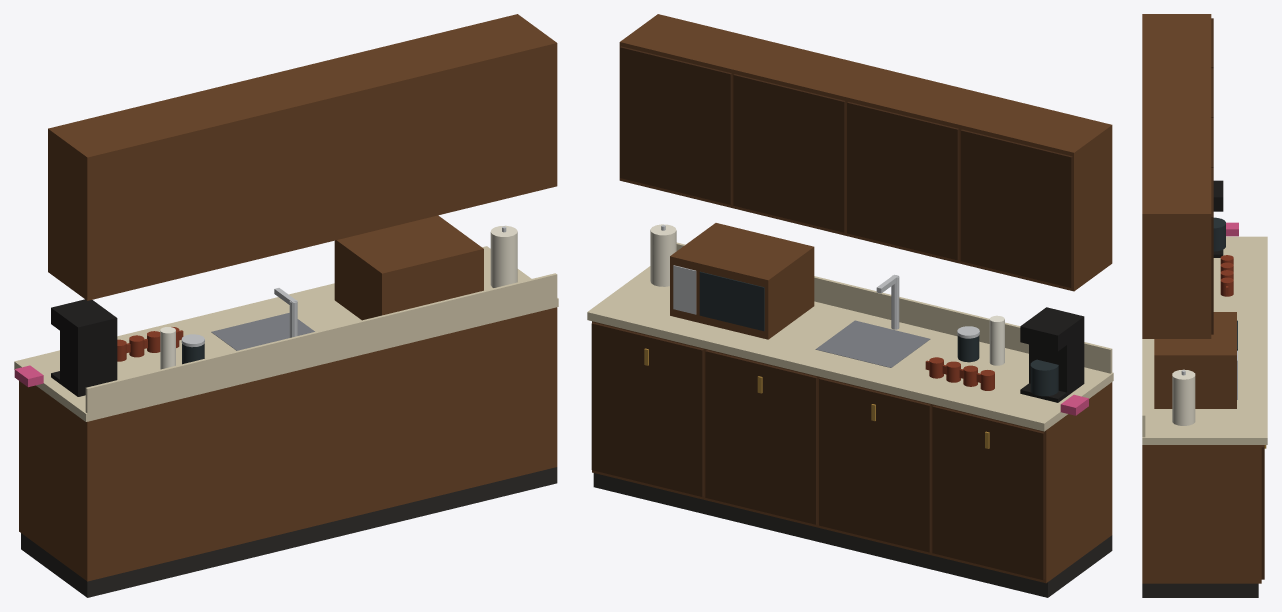
The model's file is SM_80s_Kitchenette.glb.
3 renders of one model, left to right at view 1: azimuth 30°, elevation 25°; view 2: azimuth 150°, elevation 25°; view 3: azimuth 270°, elevation 25°, orthographic. The views are drawn at different scales.
Visible parts, largest first — view 1: SM_80s_Kitchenette; view 2: SM_80s_Kitchenette; view 3: SM_80s_Kitchenette.
Boxes of the visible parts, <box> form: SM_80s_Kitchenette: <box>14,14,558,597</box>; SM_80s_Kitchenette: <box>587,14,1113,597</box>; SM_80s_Kitchenette: <box>1142,14,1267,597</box>.
Size of the model in its own units: 3.3 by 2.84 by 0.8384.
